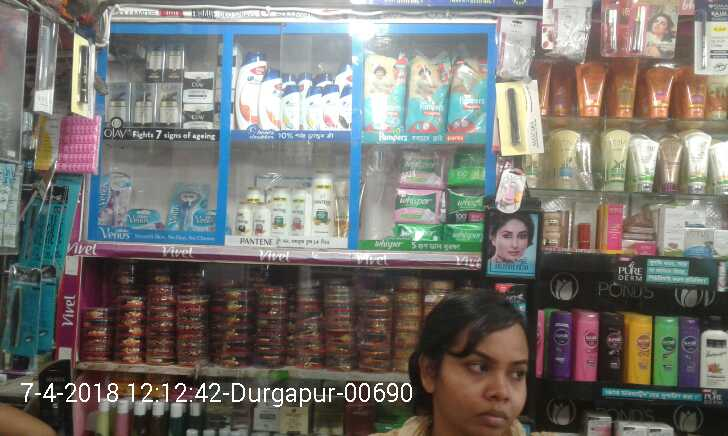venus: (99, 172, 129, 227), (166, 183, 192, 230), (129, 208, 160, 227), (194, 208, 216, 230)
